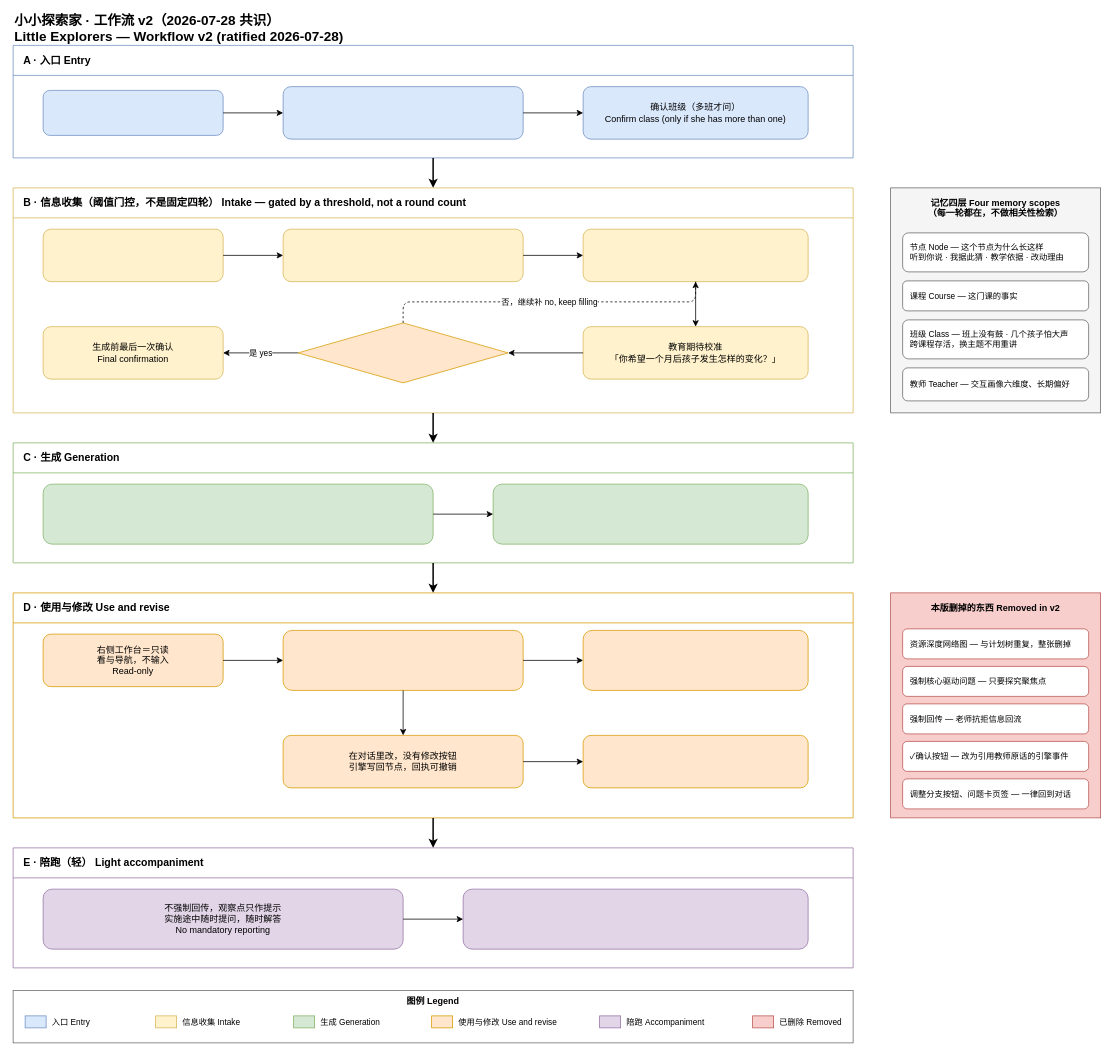
This 1114x1056 diagram has some shape labels left out. The shapes that lost their labels are listed below. From the top down, each one's centre as x and y in pixels, then its label:
At [132,112]: "新建课程 New course".
At [402,112]: "两个开场，不是两种模式 「帮我想想做什么」／「我已经有想法了」 Two openings, one product from turn 3".
At [132,255]: "教师自由输入 主题＋班级，大白话即可 Free input, plain words".
At [402,255]: "智能体检索并梳理资源 历史 · 由来 · 习俗 · 特点 给出四个可走的方向".
At [695,255]: "只问缺口，不问已知 Ask only the gaps".
At [402,352]: "六项信息是否达标？ Threshold met?".
At [237,513]: "右侧一次性生成计划树 月计划 → 周计划 → 活动（活动带日期） 这棵树同时就是主题网络图 — 同一个对象".
At [650,513]: "左侧解释：为什么这样设计、孩子可能获得什么、 第一周观察重点 Left side explains the basis".
At [402,660]: "点开节点 → 左侧带出该节点的活动方案 ＋一句静态引导语 引导语只给老师看，绝不进 API 上下文".
At [695,660]: "节点上下文＝本节点＋祖先计划 最小必要集，不倒进历史对话".
At [695,761]: "牵动别的节点 → 「一起改」一键应用 没点就不动，下游标 待复查".
At [635,918]: "孩子反复问同一件事 → 智能体判断是否收成探究聚焦点 并调整后续计划；核心驱动问题从不强求".
